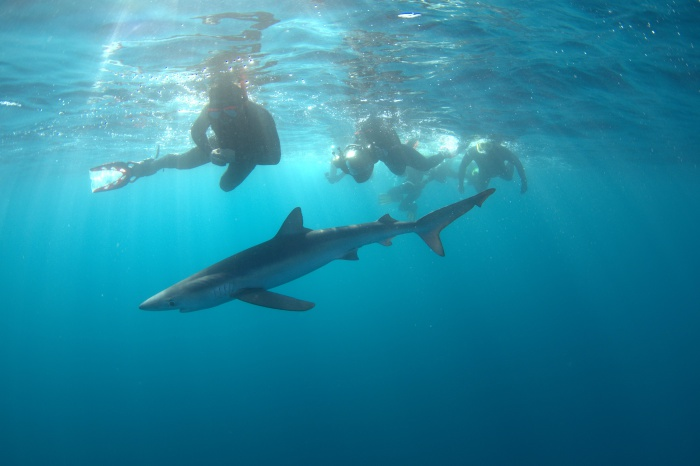Azul: (121, 181, 511, 341)
